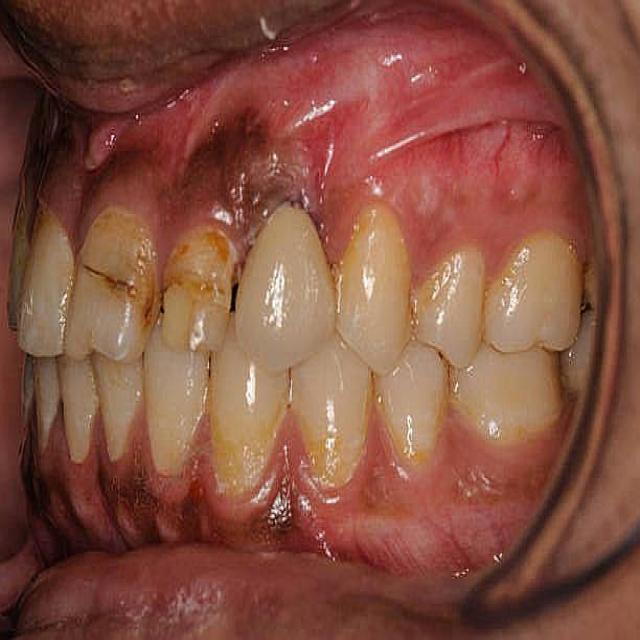caries: (67, 210, 157, 358), (157, 214, 237, 357)
